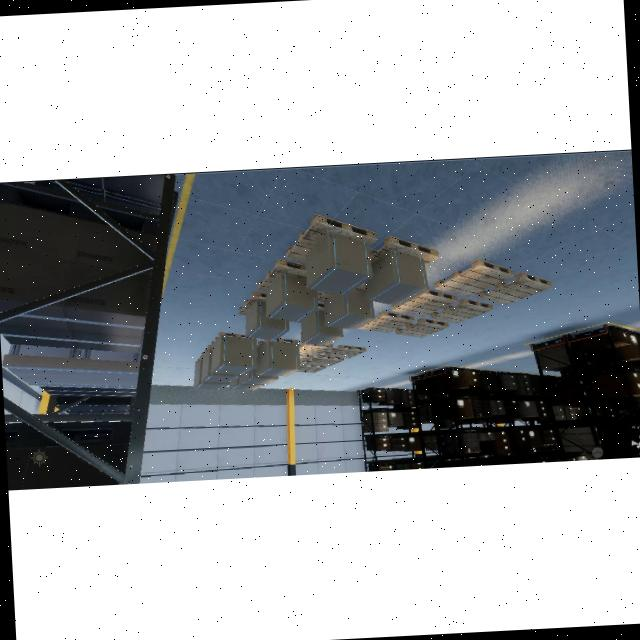wooden_pallet: (284, 214, 377, 262), (434, 260, 514, 297), (477, 272, 553, 305), (370, 235, 440, 266), (391, 289, 458, 317), (257, 258, 306, 291), (430, 298, 493, 323), (359, 310, 415, 333), (395, 319, 450, 338), (238, 291, 267, 315), (324, 345, 367, 358), (300, 342, 334, 356), (306, 355, 344, 366)
